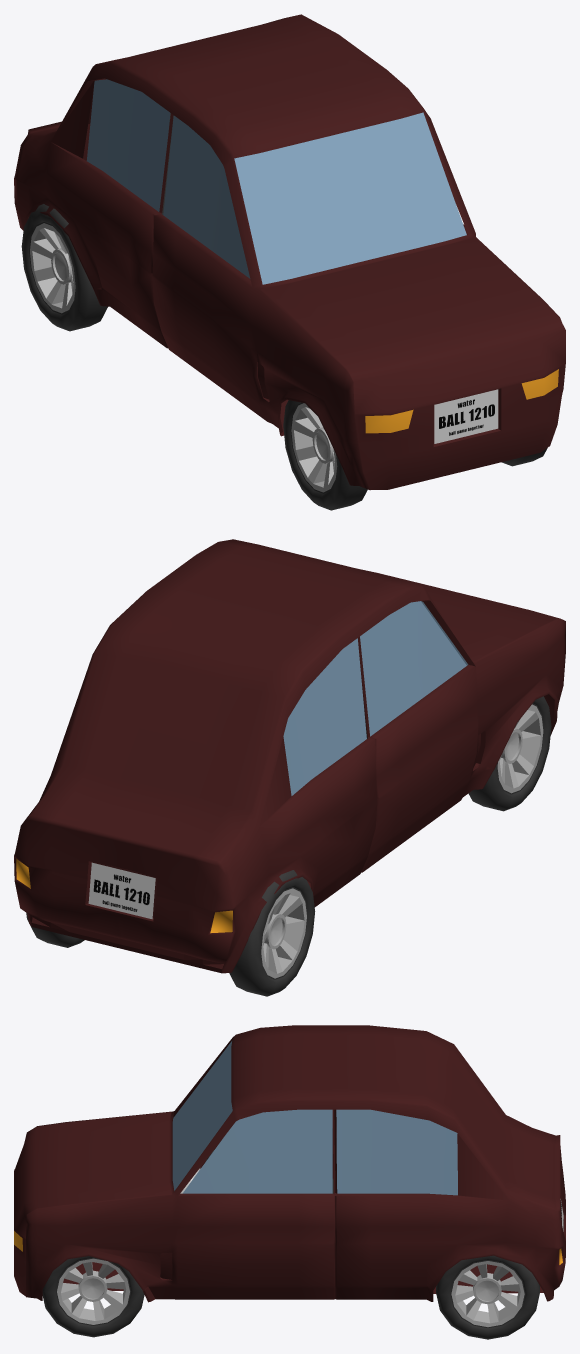
Rendered from kuruma2_morii.fbx.
3 views of the same model, one above another, from view 1: azimuth 30°, elevation 25°; view 2: azimuth 150°, elevation 25°; view 3: azimuth 270°, elevation 25° (orthographic). The views are drawn at different scales.
Visible parts, largest first — view 1: hontai, Plane005, Plane004, Plane002, taiya_soto004, taiya_naka004, taiya_naka006, pure-to, taiya_soto006; view 2: hontai, Plane002, Plane004, taiya_soto004, taiya_naka004, pure-to001, taiya_naka006, taiya_soto006, taiya_soto001; view 3: hontai, Plane001, Plane003, Plane005, taiya_naka005, taiya_naka001, taiya_soto001, taiya_soto005.
Part boxes in pixels (<box>): hontai: <box>14,14,565,490</box>; Plane005: <box>234,112,466,284</box>; Plane004: <box>86,79,170,211</box>; Plane002: <box>163,115,250,278</box>; taiya_soto004: <box>21,204,107,331</box>; taiya_naka004: <box>30,223,75,313</box>; taiya_naka006: <box>291,403,337,492</box>; pure-to: <box>434,389,498,443</box>; taiya_soto006: <box>283,400,367,510</box>; hontai: <box>14,539,565,973</box>; Plane002: <box>360,601,466,736</box>; Plane004: <box>283,638,366,795</box>; taiya_soto004: <box>229,870,315,996</box>; taiya_naka004: <box>261,888,306,978</box>; pure-to001: <box>88,862,155,919</box>; taiya_naka006: <box>497,704,543,793</box>; taiya_soto006: <box>468,696,551,811</box>; taiya_soto001: <box>26,913,84,947</box>; hontai: <box>14,1025,565,1302</box>; Plane001: <box>182,1109,332,1193</box>; Plane003: <box>336,1109,457,1195</box>; Plane005: <box>172,1041,232,1190</box>; taiya_naka005: <box>57,1258,129,1324</box>; taiya_naka001: <box>451,1261,524,1327</box>; taiya_soto001: <box>436,1255,539,1339</box>; taiya_soto005: <box>42,1256,144,1337</box>.
Bounding box in the file's own units: 61.86 × 74.89 × 159.
